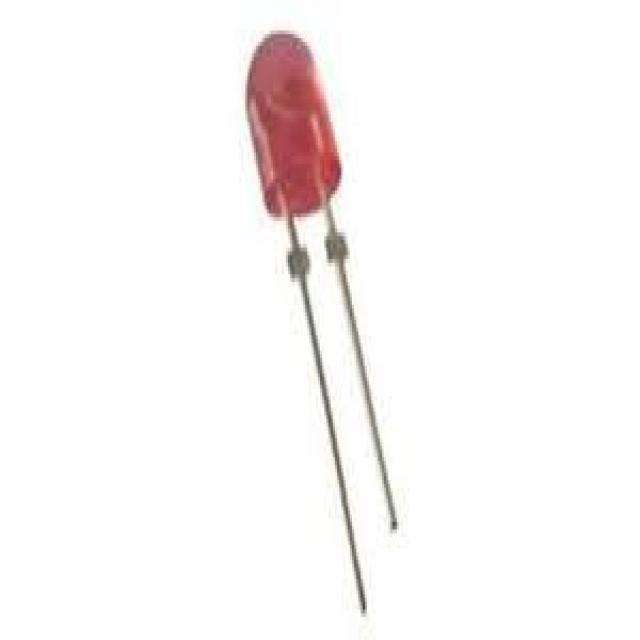Led: (248, 33, 394, 610)
